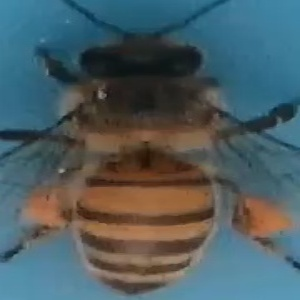bee: (12, 13, 297, 300)
